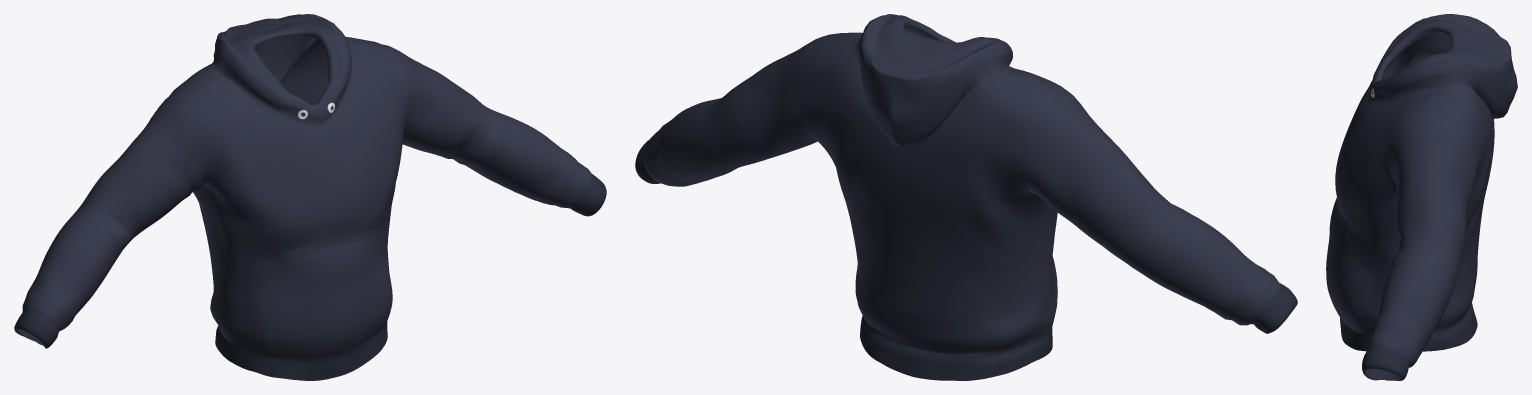
File: hoodie-blue.draco.glb
3 renders of one model, left to right at view 1: azimuth 30°, elevation 25°; view 2: azimuth 150°, elevation 25°; view 3: azimuth 270°, elevation 25°, orthographic. The views are drawn at different scales.
Parts seen in each view (by area): view 1: hoodie_low; view 2: hoodie_low; view 3: hoodie_low.
Boxes of the visible parts, x1,y1,x2,y2 form: hoodie_low: [14, 14, 606, 380]; hoodie_low: [635, 14, 1297, 380]; hoodie_low: [1326, 14, 1517, 380].
Size of the model in its own units: 0.0541 by 0.027 by 0.0159.
1 material, 1 textured.
